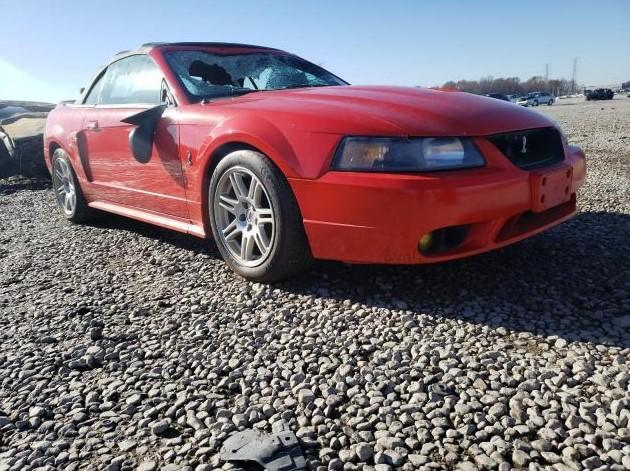Back-wheel: (52, 148, 94, 223)
Back-window: (80, 68, 108, 107)
Fender: (177, 103, 405, 239)
Front-bumper: (287, 126, 586, 264)
Front-door: (77, 107, 190, 221)
Front-wheel: (209, 150, 317, 283)
Front-window: (96, 54, 164, 108)
Grille: (487, 127, 565, 172)
Headlight: (327, 135, 487, 174)
Hood: (204, 85, 556, 137)
License-plate: (530, 162, 573, 214)
Mirror: (120, 76, 178, 163)
Quarter-panel: (43, 103, 97, 204)
Rocker-panel: (88, 201, 191, 234)
Windshield: (163, 48, 352, 100)
